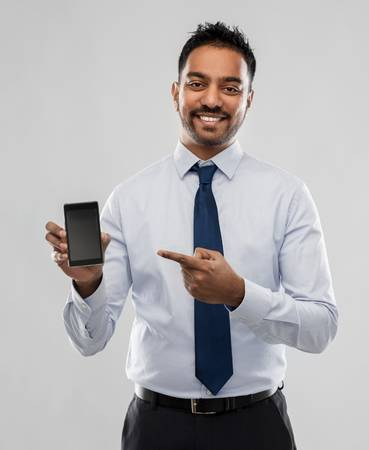F_shirt: (62, 144, 340, 398)
F_tie: (184, 160, 232, 402)
